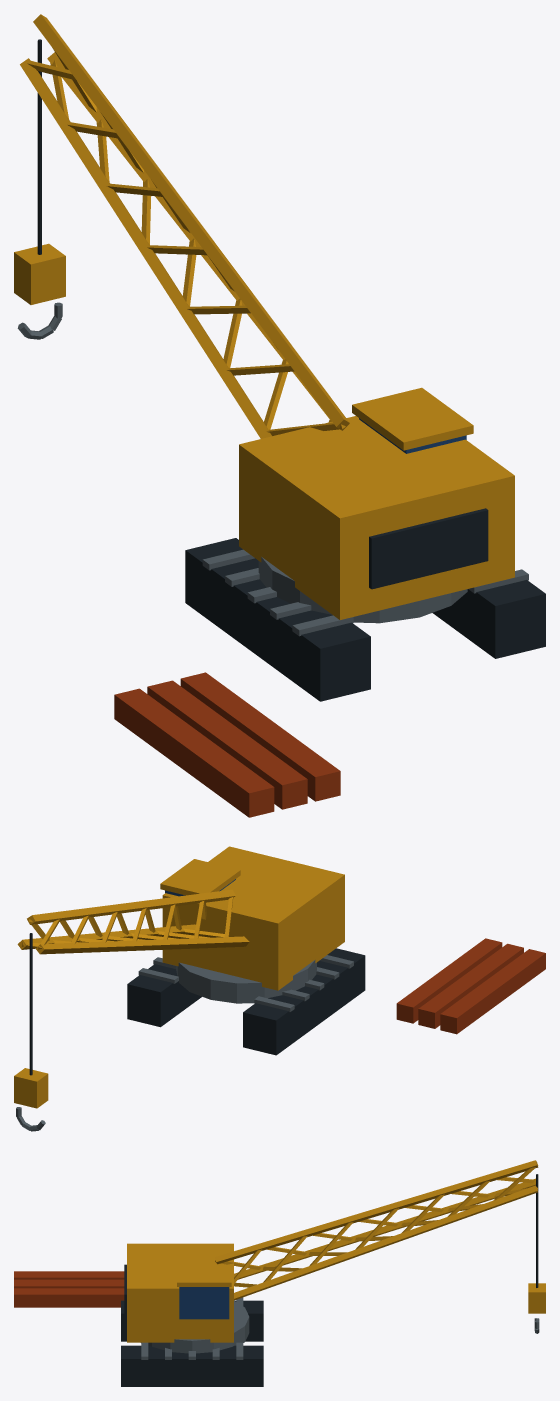
The model's file is crawler-crane.glb.
The picture shows the model from 3 angles, top to bottom: view 1: azimuth 30°, elevation 25°; view 2: azimuth 150°, elevation 25°; view 3: azimuth 270°, elevation 25°; orthographic projection. The views are drawn at different scales.
Parts seen in each view (by area): view 1: crawler-crane; view 2: crawler-crane; view 3: crawler-crane.
Boxes of the visible parts, box(x1,y1,x2,y2) form: crawler-crane: box(14, 14, 545, 817); crawler-crane: box(14, 846, 545, 1131); crawler-crane: box(14, 1160, 545, 1386).
Size of the model in its own units: 20.55 by 18.33 by 44.75.
